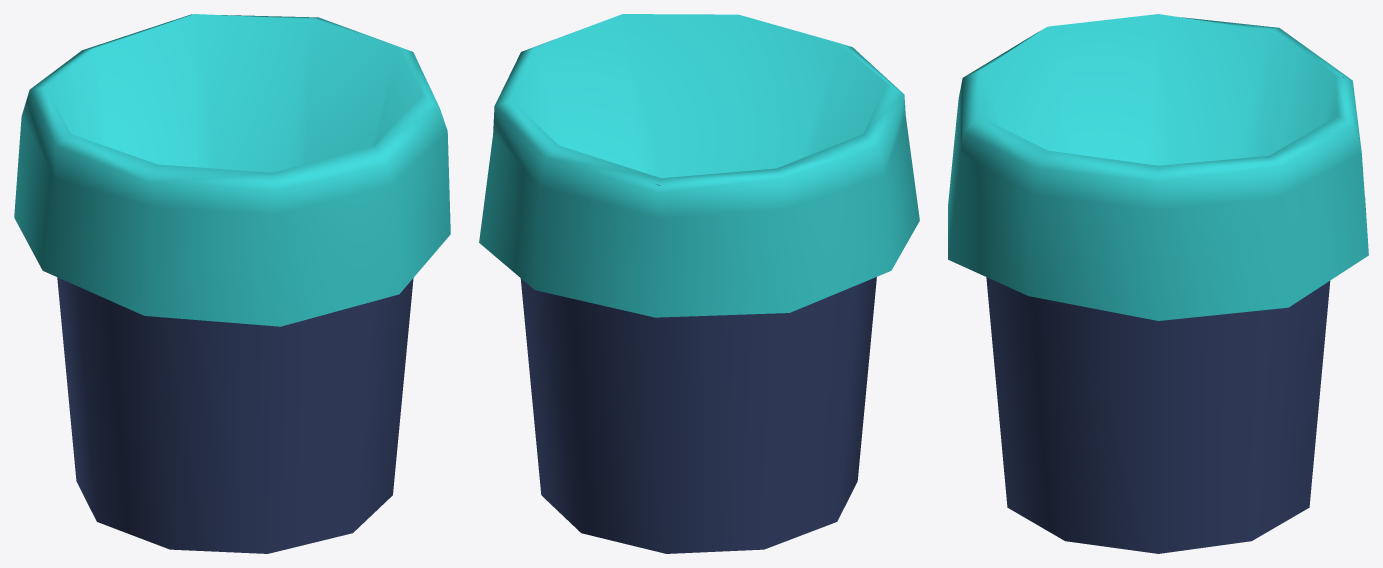
File: Waste_Bin.FBX
3 views of the same model, side by side, from view 1: azimuth 30°, elevation 25°; view 2: azimuth 150°, elevation 25°; view 3: azimuth 270°, elevation 25° (orthographic).
Visible parts, largest first — view 1: Waste_Bin; view 2: Waste_Bin; view 3: Waste_Bin.
Part boxes in pixels (box(x1,y1,x2,y2)): Waste_Bin: box(14, 14, 450, 553); Waste_Bin: box(479, 14, 919, 553); Waste_Bin: box(948, 14, 1368, 553).
Size of the model in its own units: 34.2 by 34.51 by 32.85.
